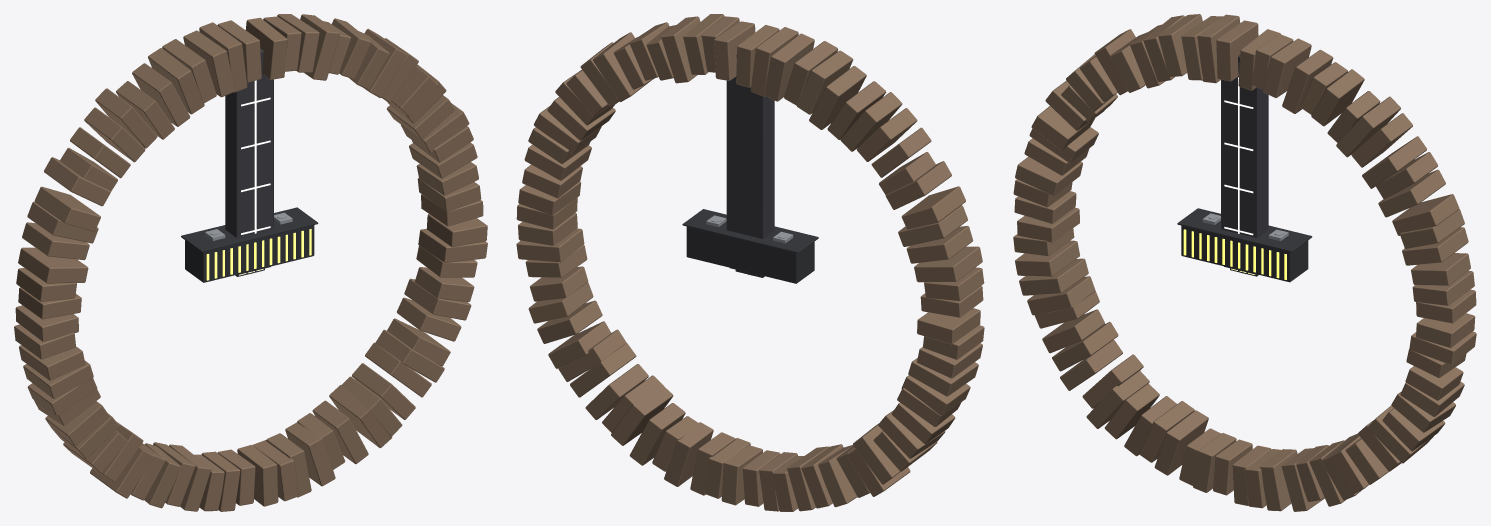
Rendered from stage.glb.
3 renders of one model, left to right at view 1: azimuth 30°, elevation 25°; view 2: azimuth 150°, elevation 25°; view 3: azimuth 330°, elevation 25°, orthographic.
Parts seen in each view (by area): view 1: monolith, booth, gate_panel_07, gate_panel_08, gate_panel_10, gate_panel_20, gate_panel_19, gate_panel_11, gate_panel_06, gate_panel_21, gate_panel_22, gate_panel_12 (+16 smaller); view 2: monolith, booth, gate_panel_07, gate_panel_10, gate_panel_08, gate_panel_06, gate_panel_19, gate_panel_20, gate_panel_22, gate_panel_21, gate_panel_11, gate_panel_12 (+14 smaller); view 3: monolith, booth, gate_panel_16, gate_panel_01, gate_panel_06, gate_panel_02, gate_panel_14, gate_panel_04, gate_panel_03, gate_panel_15, gate_panel_00, gate_panel_13 (+16 smaller).
Part boxes in pixels (bbox=[...]): monolith: bbox=[225, 48, 273, 237]; booth: bbox=[181, 207, 318, 282]; gate_panel_07: bbox=[132, 39, 216, 126]; gate_panel_08: bbox=[84, 81, 174, 162]; gate_panel_10: bbox=[22, 186, 100, 260]; gate_panel_20: bbox=[329, 363, 415, 447]; gate_panel_19: bbox=[285, 400, 368, 486]; gate_panel_11: bbox=[16, 247, 88, 319]; gate_panel_06: bbox=[183, 20, 261, 97]; gate_panel_21: bbox=[365, 318, 450, 397]; gate_panel_22: bbox=[397, 267, 474, 341]; gate_panel_12: bbox=[14, 305, 85, 380]; monolith: bbox=[726, 54, 774, 238]; booth: bbox=[682, 209, 818, 283]; gate_panel_07: bbox=[784, 41, 866, 129]; gate_panel_10: bbox=[898, 186, 973, 263]; gate_panel_08: bbox=[827, 81, 917, 161]; gate_panel_06: bbox=[736, 25, 814, 101]; gate_panel_19: bbox=[629, 403, 713, 486]; gate_panel_20: bbox=[585, 364, 673, 445]; gate_panel_22: bbox=[528, 266, 602, 343]; gate_panel_21: bbox=[548, 321, 636, 397]; gate_panel_11: bbox=[914, 246, 984, 317]; gate_panel_12: bbox=[917, 308, 984, 378]; monolith: bbox=[1221, 55, 1268, 237]; booth: bbox=[1177, 208, 1312, 282]; gate_panel_16: bbox=[1124, 396, 1208, 475]; gate_panel_01: bbox=[1392, 194, 1468, 265]; gate_panel_06: bbox=[1181, 14, 1258, 83]; gate_panel_02: bbox=[1362, 136, 1445, 217]; gate_panel_14: bbox=[1042, 309, 1122, 390]; gate_panel_04: bbox=[1282, 49, 1364, 126]; gate_panel_03: bbox=[1327, 91, 1412, 167]; gate_panel_15: bbox=[1082, 354, 1159, 439]; gate_panel_00: bbox=[1411, 253, 1476, 323]; gate_panel_13: bbox=[1019, 258, 1099, 328].
Size of the model in its own units: 15.34 by 15.36 by 1.96.
